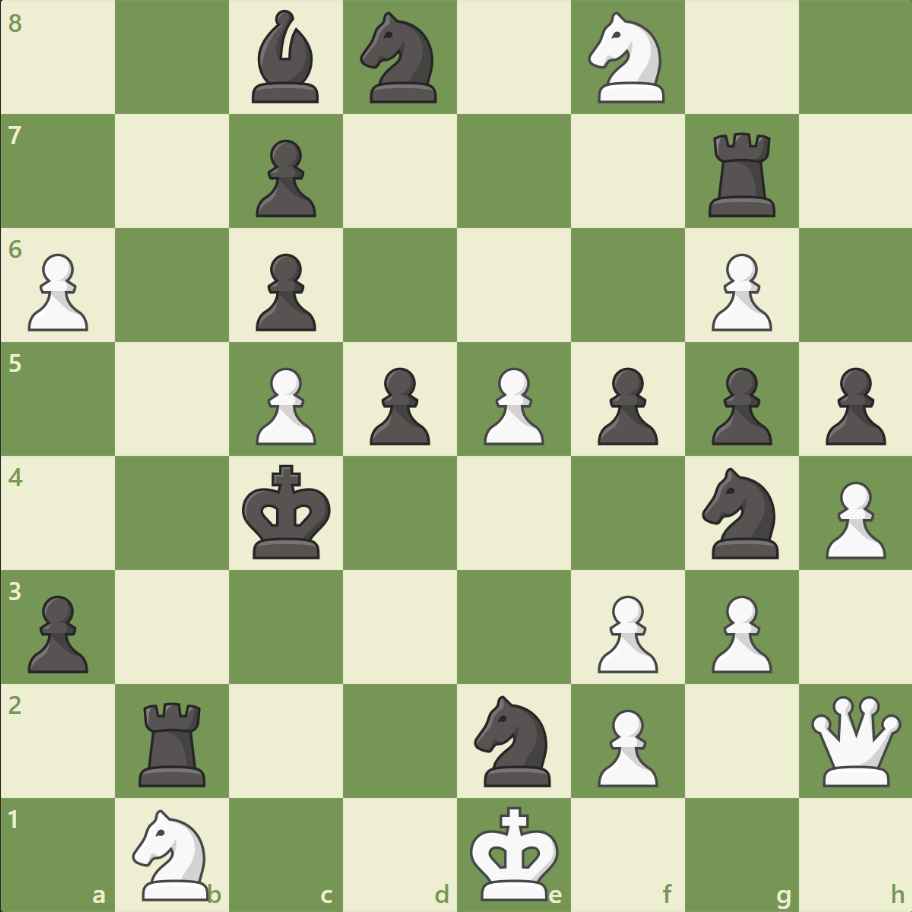K: (465, 798, 565, 906)
N: (124, 802, 222, 904), (579, 7, 676, 110)
P: (20, 246, 95, 337), (701, 246, 776, 337), (247, 359, 322, 450), (474, 359, 549, 450), (701, 586, 776, 677), (815, 473, 889, 564), (588, 586, 662, 677), (588, 700, 662, 791)
Q: (805, 690, 904, 789)
b: (244, 6, 328, 109)
k: (238, 458, 338, 566)
n: (351, 7, 449, 110), (692, 461, 789, 564), (465, 688, 562, 791)
p: (247, 132, 322, 223), (247, 246, 322, 337), (701, 359, 776, 450), (20, 586, 95, 677), (361, 359, 435, 450), (588, 359, 662, 450), (815, 359, 889, 450)
r: (700, 125, 783, 222), (133, 693, 215, 790)
